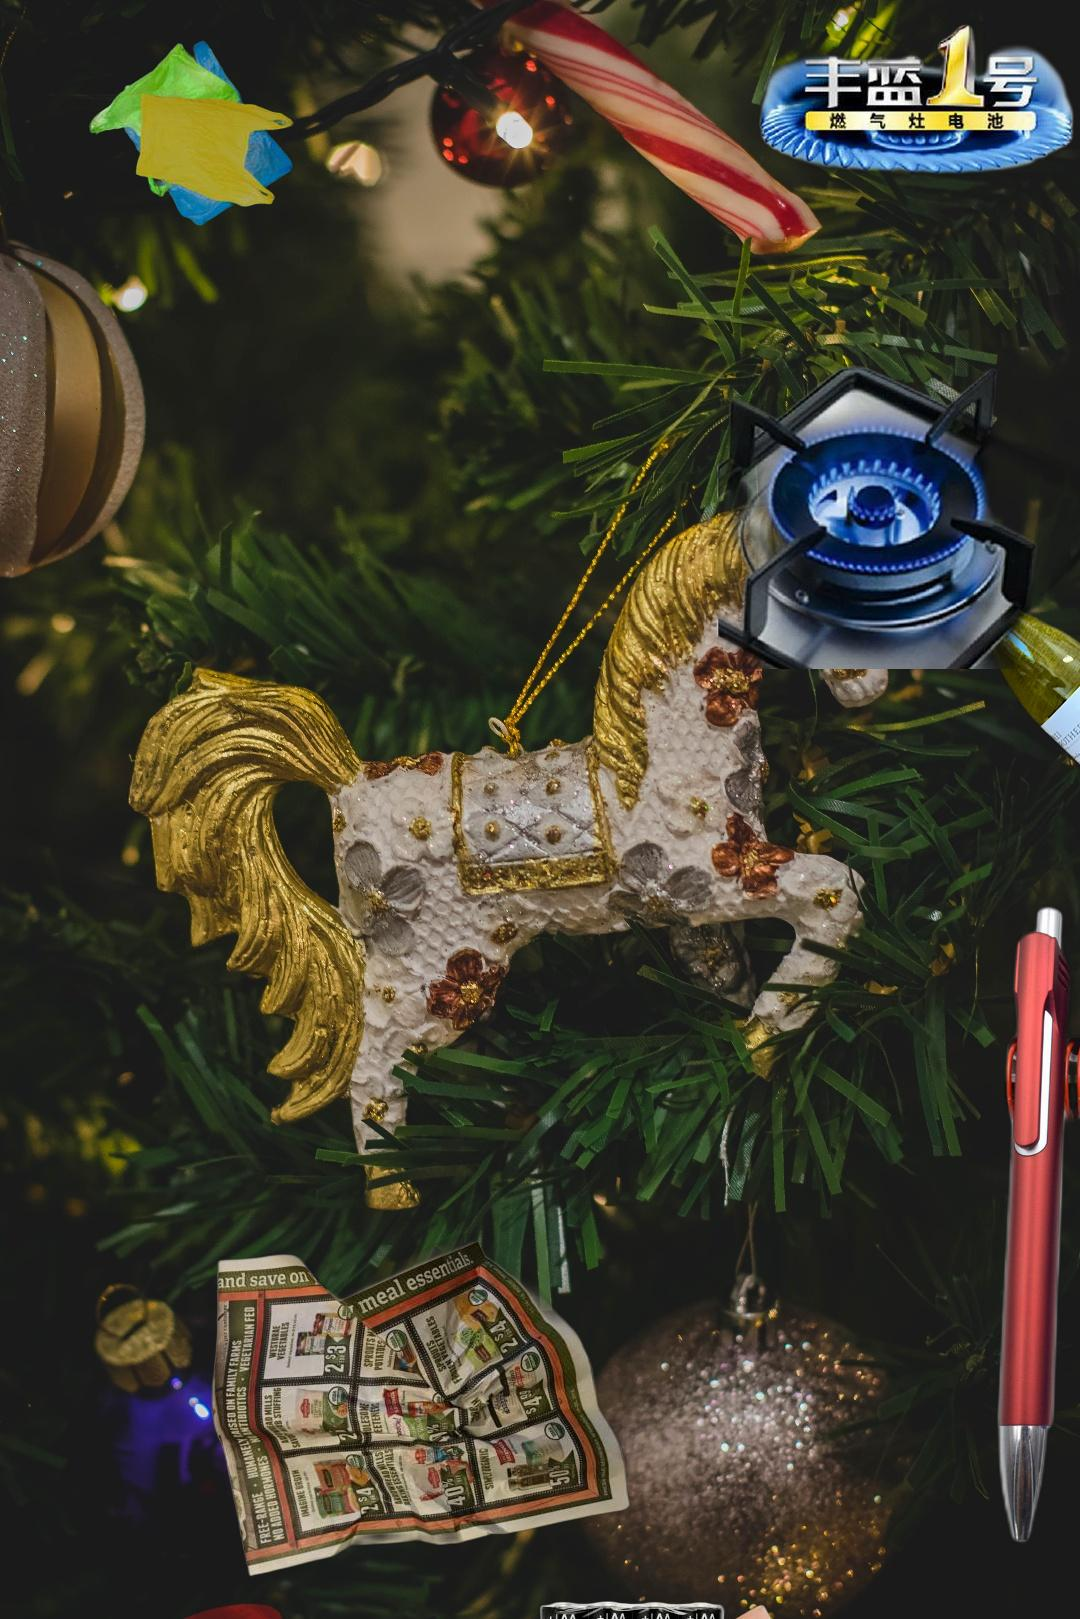battery: (717, 19, 1080, 669), (536, 1599, 730, 1619)
glass: (906, 532, 1080, 819)
paper: (207, 1233, 635, 1580)
paper-bag: (670, 1602, 828, 1619)
penholder: (991, 839, 1080, 1555)
plastic-bag: (86, 37, 297, 228)
